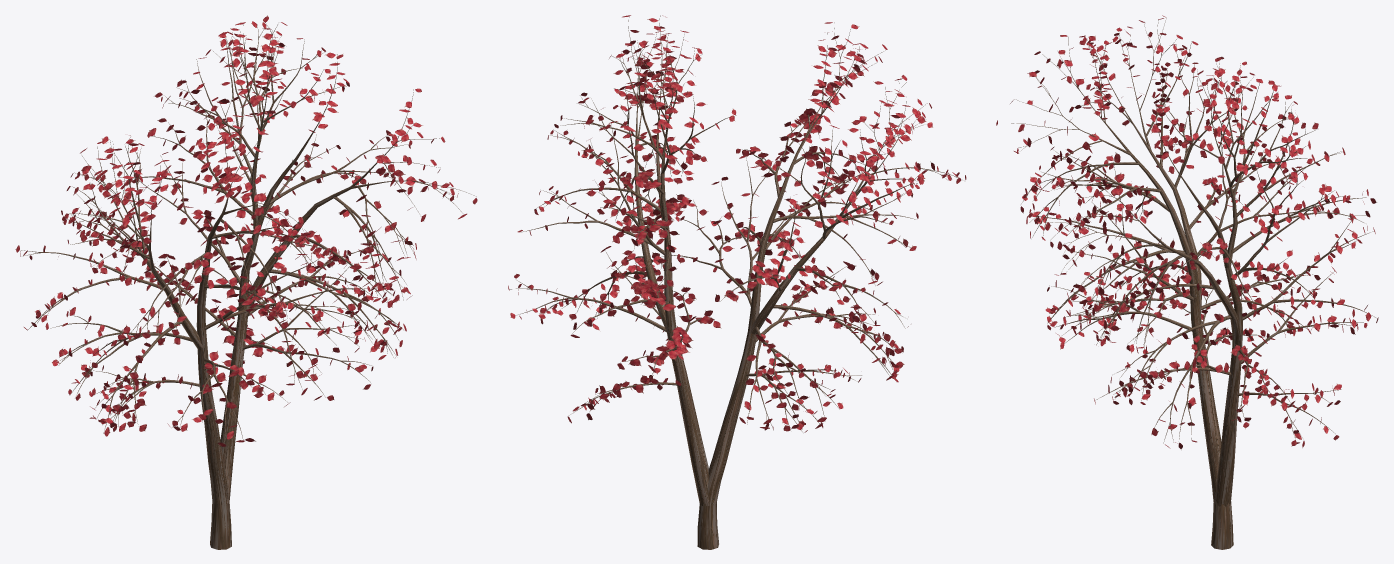
File: Amazonie_Arbre_25.fbx
3 views of the same model, side by side, from view 1: azimuth 30°, elevation 25°; view 2: azimuth 150°, elevation 25°; view 3: azimuth 270°, elevation 25° (orthographic).
Visible parts, largest first — view 1: Plane.001, tree; view 2: Plane.001, tree; view 3: tree, Plane.001.
Boxes of the visible parts, left/top/right/bottom form: Plane.001: left=15, top=15, right=477, bottom=446; tree: left=21, top=24, right=476, bottom=549; Plane.001: left=508, top=15, right=966, bottom=432; tree: left=509, top=15, right=961, bottom=549; tree: left=1011, top=18, right=1375, bottom=549; Plane.001: left=996, top=15, right=1378, bottom=449.
Size of the model in its own units: 1135 by 1441 by 1006.
